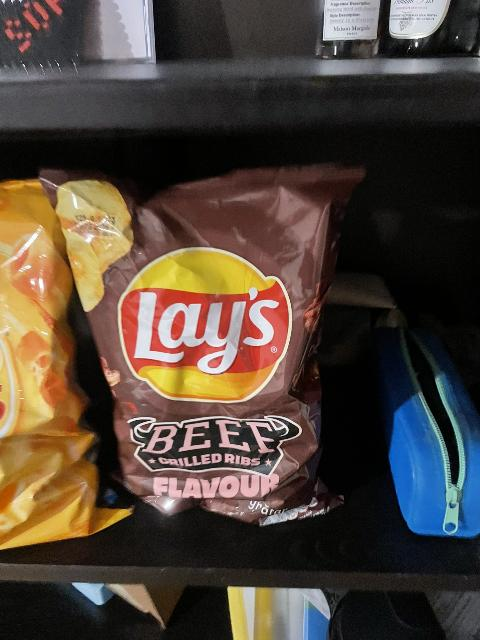Chio Cascaval 125g: (0, 177, 128, 548)
Lays Beef Grilled Ribs 125g: (45, 159, 369, 513)
